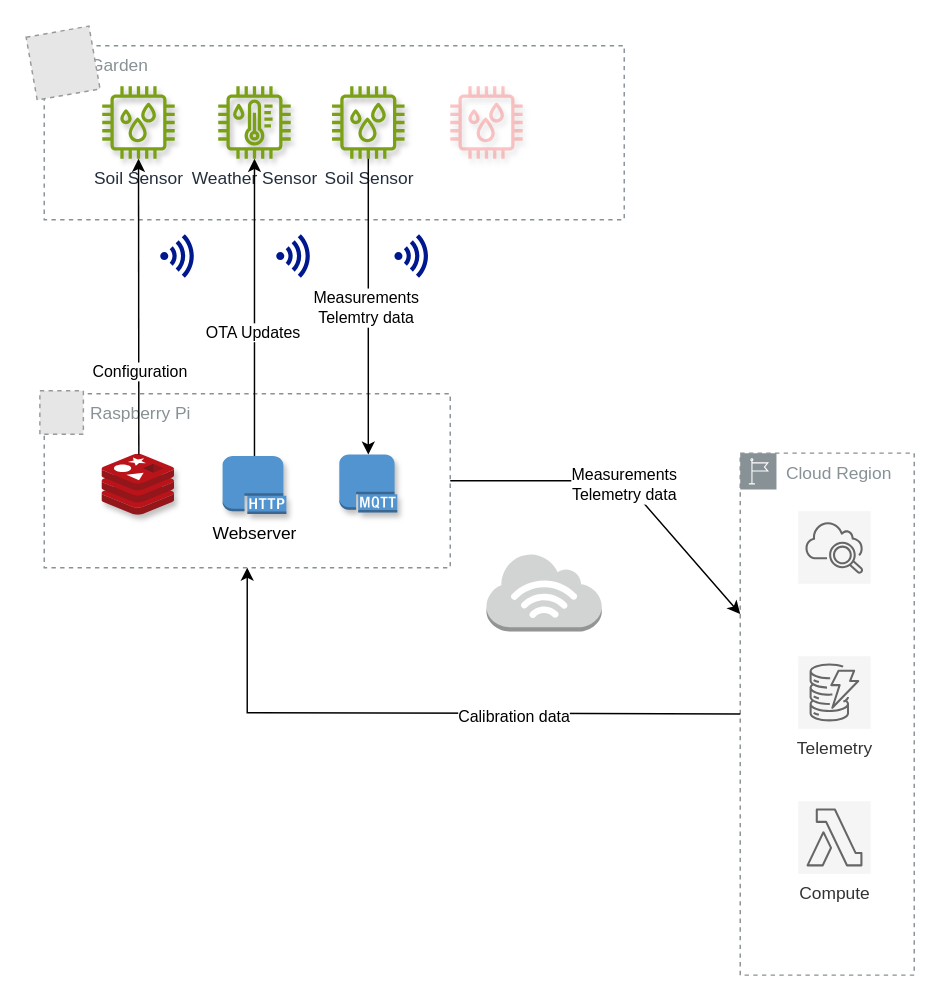
Image size: 940x1001. Some labels were removed from this diagram. Grey dashed boxes stand in for pictures. Here are the shapes that lost their labels. From the top down, the centre of each, then its label:
[487,124]: Irrigation Control
[139,486]: Key/Value Store
[369,485]: Pub/Sub Server
[834,547]: Dashboard
